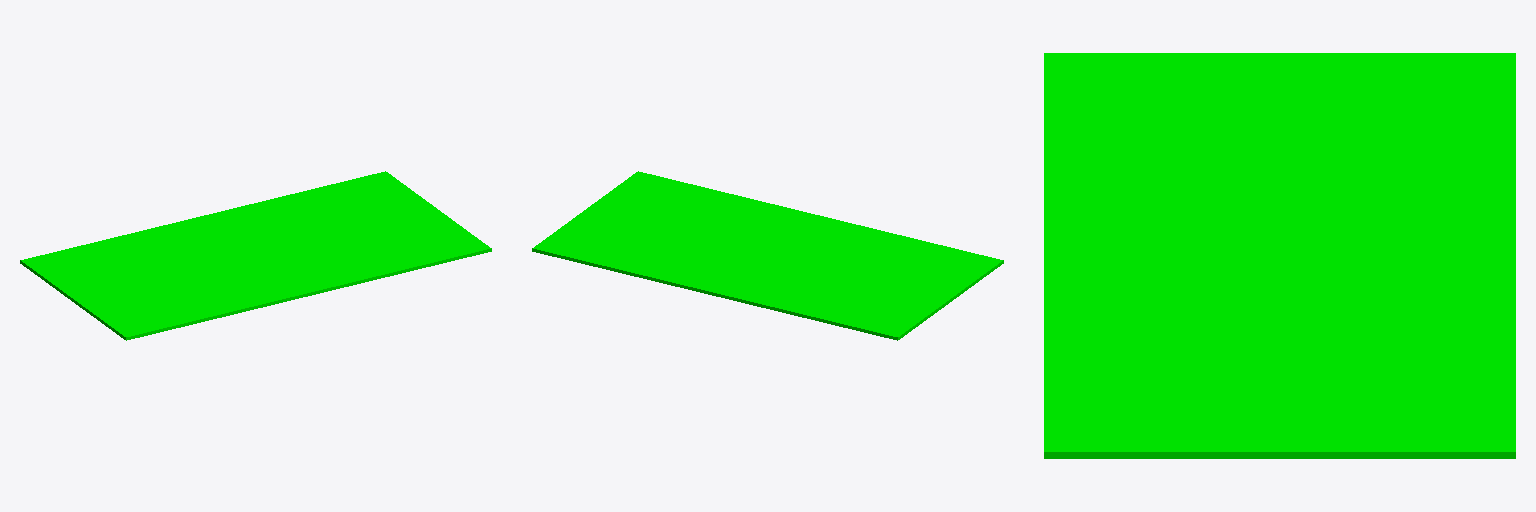
The robot description file, URDF, robot "goal_zone":
<?xml version="1.0" ?>
<robot name="goal_zone">
  <link name="base">
    <visual>
      <origin xyz="0 0 0" rpy="0 0 0"/>
      <geometry>
        <box size="0.12 0.06 0.001"/>
      </geometry>
      <material name="goal_color">
        <color rgba="0 1 0 0.4"/> <!-- green + transparent -->
      </material>
    </visual>
    <collision>
      <origin xyz="0 0 0" rpy="0 0 0"/>
      <geometry>
        <box size="0 0 0"/>
      </geometry>
    </collision>
    <inertial>
      <mass value="0.001"/>
      <inertia ixx="1e-5" iyy="1e-5" izz="1e-5"/>
    </inertial>
  </link>
</robot>

--- What the picture shows (computed from the rendered views, not written in the file) ---
The picture shows the robot from 3 angles, left to right: view 1: azimuth 30°, elevation 25°; view 2: azimuth 150°, elevation 25°; view 3: azimuth 270°, elevation 25°; orthographic projection.
Robot: goal_zone — 1 links, 0 joints (none); root link base; default pose: all joints at 0.
Visible links, largest first — view 1: base; view 2: base; view 3: base.
Boxes of the visible links, bbox=[...] form: base: bbox=[20, 171, 491, 340]; base: bbox=[532, 171, 1003, 340]; base: bbox=[1044, 53, 1515, 458].
Bounding box of the posed robot: 0.12 × 0.06 × 0.001 m (x, y, z).
Geometry: primitives only (box / cylinder / sphere), no mesh files.